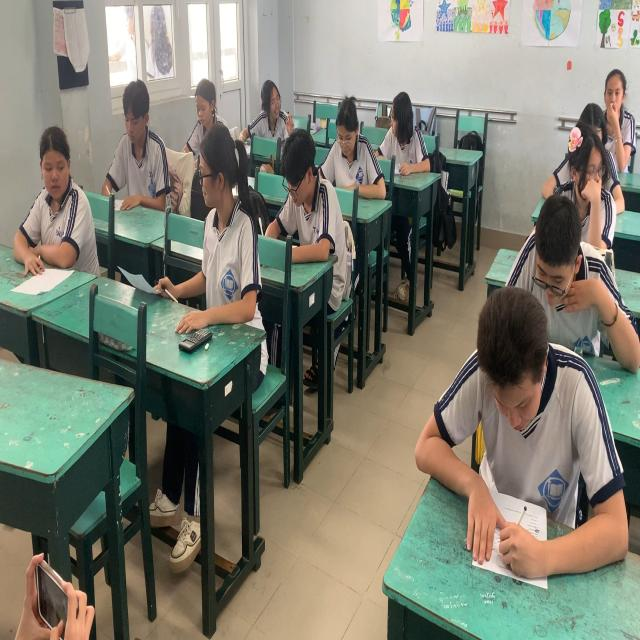cheating: (186, 132, 263, 349), (22, 114, 95, 276), (386, 77, 432, 192), (258, 59, 288, 150)
not_cheating: (462, 282, 626, 516), (512, 198, 610, 338), (545, 121, 626, 241), (284, 120, 342, 276), (110, 68, 170, 212), (316, 87, 381, 204), (181, 54, 231, 164), (597, 48, 637, 157)
